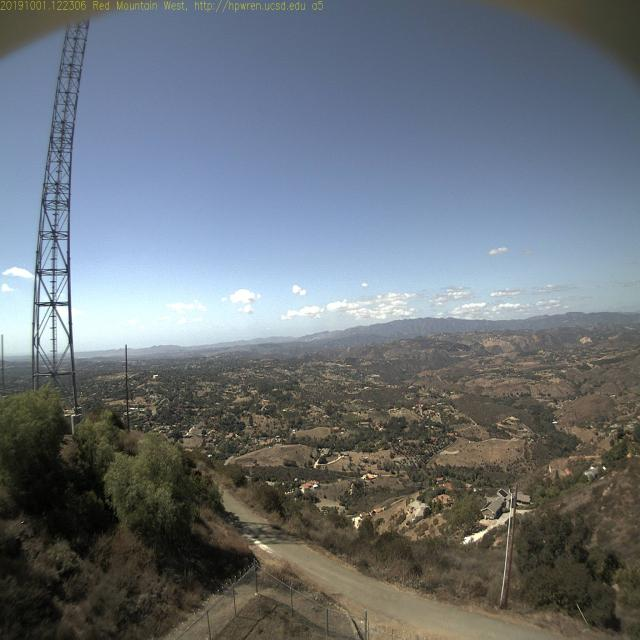smoke: (297, 329, 328, 345)
